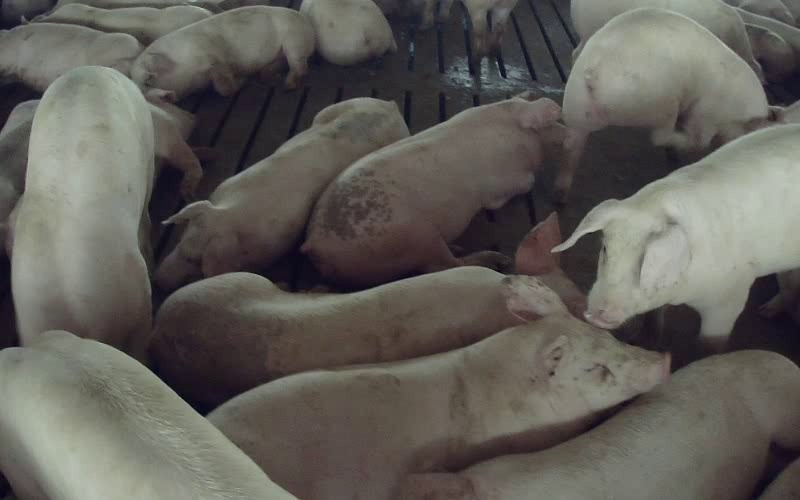pig: (209, 276, 668, 499), (401, 351, 799, 499), (554, 124, 799, 338), (151, 267, 520, 407), (302, 98, 564, 287), (156, 98, 408, 289), (11, 67, 153, 361), (557, 8, 767, 193), (113, 6, 314, 98), (571, 0, 761, 80), (0, 23, 142, 91), (34, 3, 211, 44), (300, 0, 396, 64)
